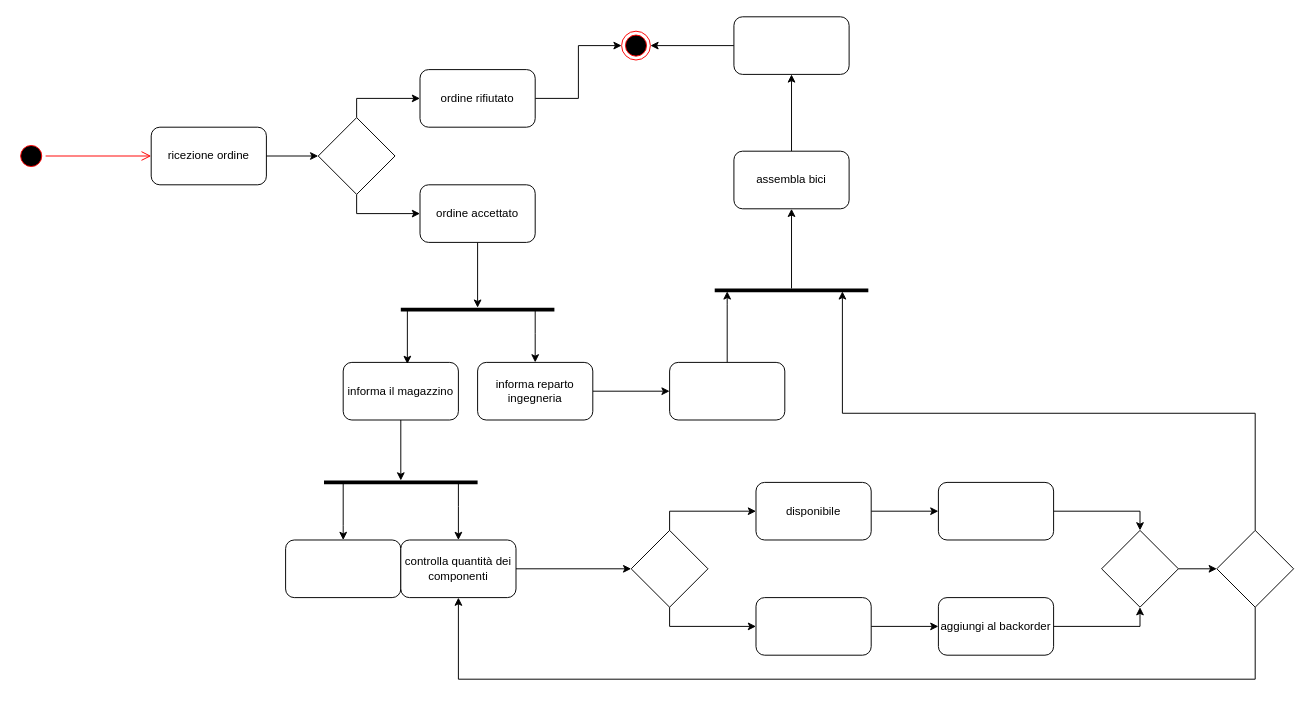
Some shapes in this 1310 by 704 pixel diagram are drawn without their labels. The shapes that lost their labels are listed below. From the top down, each one's box as (x1, y1, x2, y2) in pixels, then its label:
(733, 16, 849, 74): invia bici
(669, 361, 785, 420): prepara assemblaggio
(937, 481, 1054, 540): riserva
(285, 539, 401, 598): crea distinta dei prezzi
(755, 597, 871, 655): non disponibile
